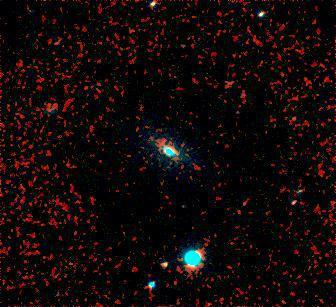star: (149, 251, 179, 281)
